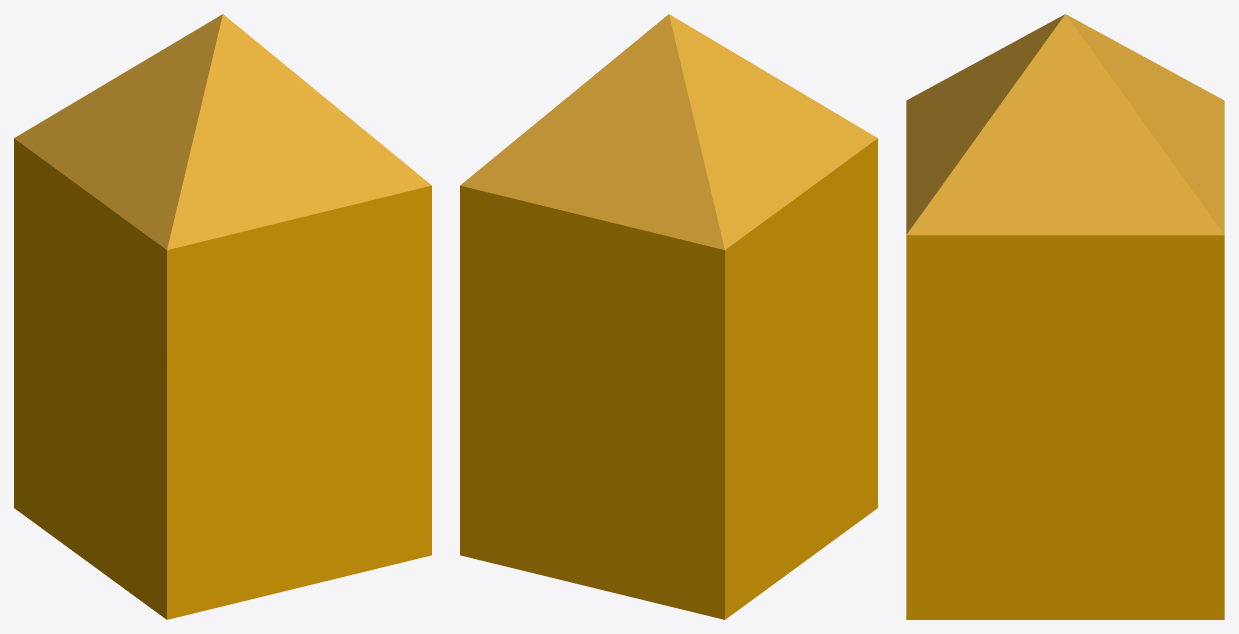
The model's file is bullet.fbx.
The picture shows the model from 3 angles, left to right: view 1: azimuth 30°, elevation 25°; view 2: azimuth 150°, elevation 25°; view 3: azimuth 270°, elevation 25°; orthographic projection. The views are drawn at different scales.
Parts seen in each view (by area): view 1: bullet; view 2: bullet; view 3: bullet.
Boxes of the visible parts, box(x1,y1,x2,y2) form: bullet: box(14, 14, 431, 619); bullet: box(460, 14, 877, 619); bullet: box(906, 14, 1224, 619).
Size of the model in its own units: 36 by 67.2 by 36.
